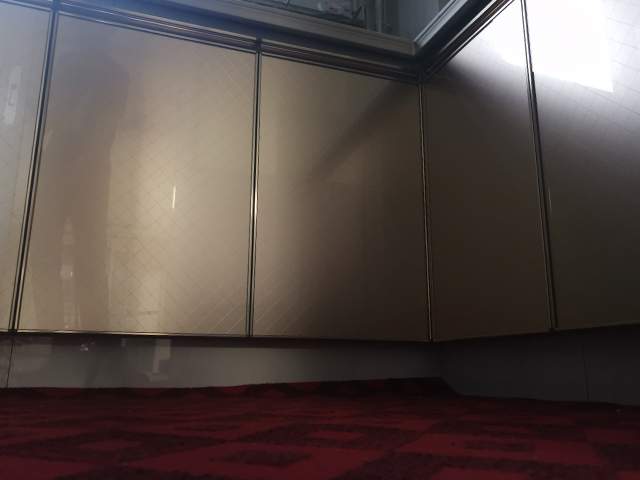cabinet: (1, 1, 429, 394)
carpet: (1, 371, 640, 480)
